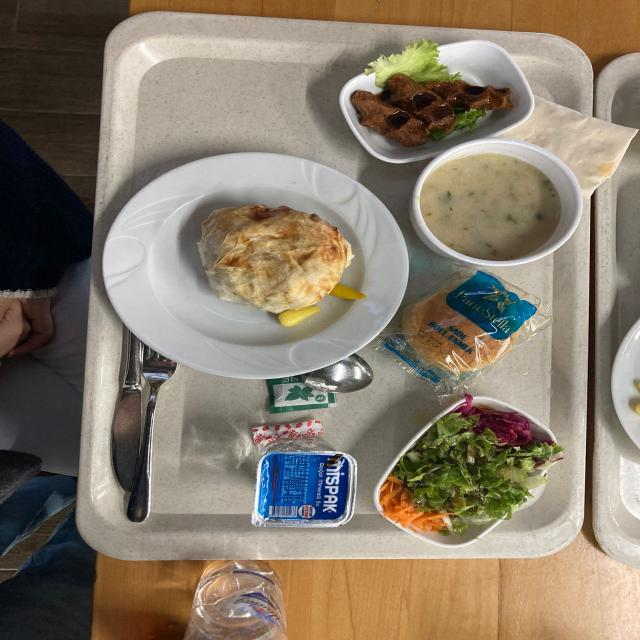ana_yemek: (143, 160, 376, 366)
corba: (412, 141, 593, 282)
yan_yemek: (353, 405, 562, 547)
